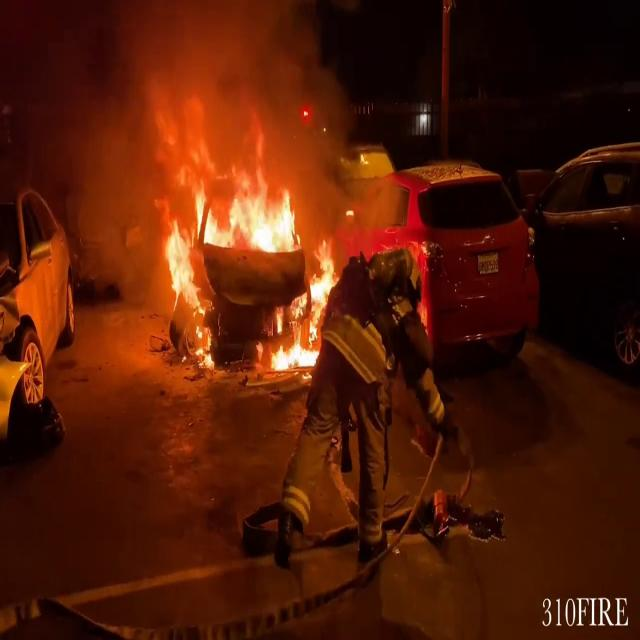Fire: (161, 134, 339, 372)
Smoke: (5, 0, 377, 188)
